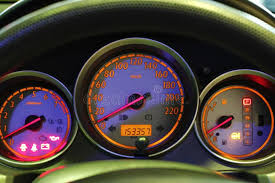Digital_Meter: (121, 125, 153, 138)
